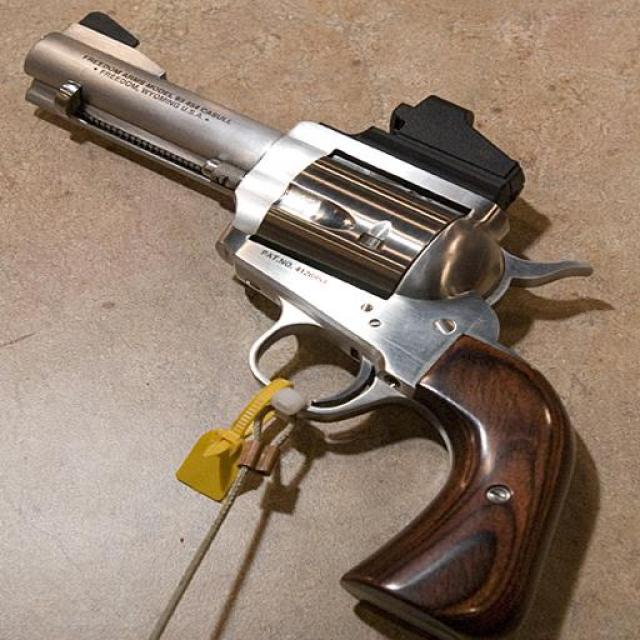pistol: (1, 20, 605, 631)
